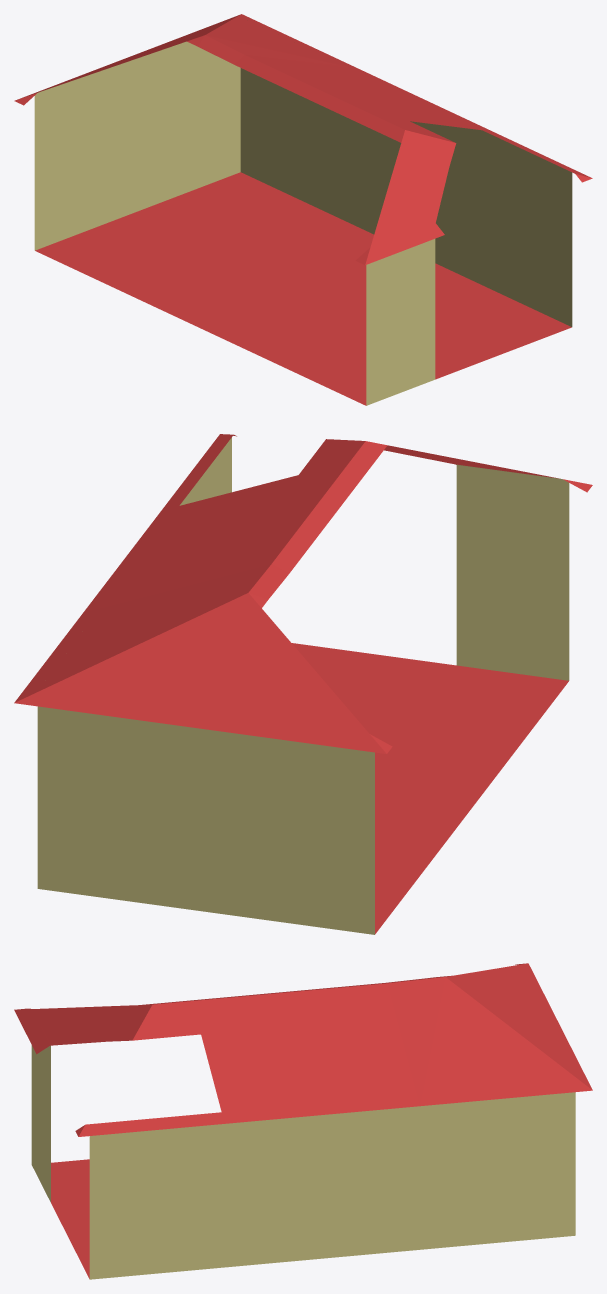
The picture shows the model from 3 angles, top to bottom: view 1: azimuth 30°, elevation 25°; view 2: azimuth 150°, elevation 25°; view 3: azimuth 270°, elevation 25°; orthographic projection. The views are drawn at different scales.
Size of the model in its own units: 20.93 by 29.47 by 11.78.
